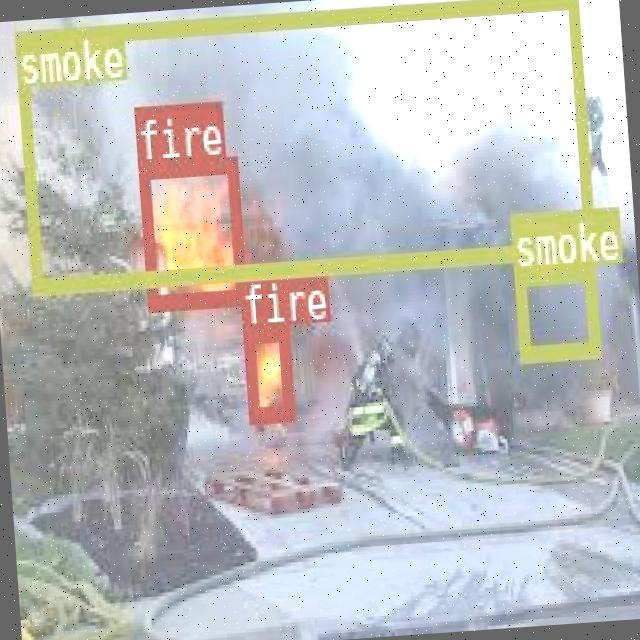fire: (137, 154, 244, 309), (241, 322, 292, 419)
smoke: (12, 0, 594, 290), (511, 262, 598, 358)
